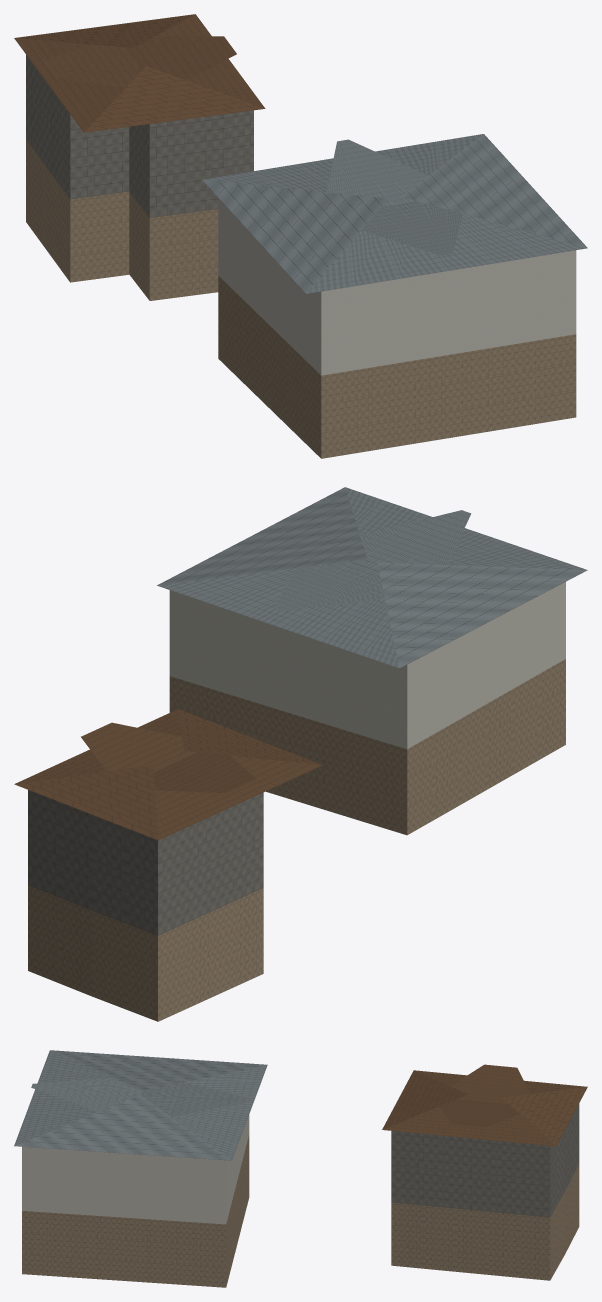
File: bld_c30_-39_471.gltf
The picture shows the model from 3 angles, top to bottom: view 1: azimuth 30°, elevation 25°; view 2: azimuth 150°, elevation 25°; view 3: azimuth 270°, elevation 25°; orthographic projection. The views are drawn at different scales.
Visible parts, largest first — view 1: bld_c30_-39_471; view 2: bld_c30_-39_471; view 3: bld_c30_-39_471.
Part boxes in pixels (x1,y1,x2,y2): bld_c30_-39_471: (14,14,587,458); bld_c30_-39_471: (14,487,587,1021); bld_c30_-39_471: (14,1050,587,1287).
Bounding box in the file's own units: 19.09 × 13.2 × 41.9.
5 materials, 5 textured.
